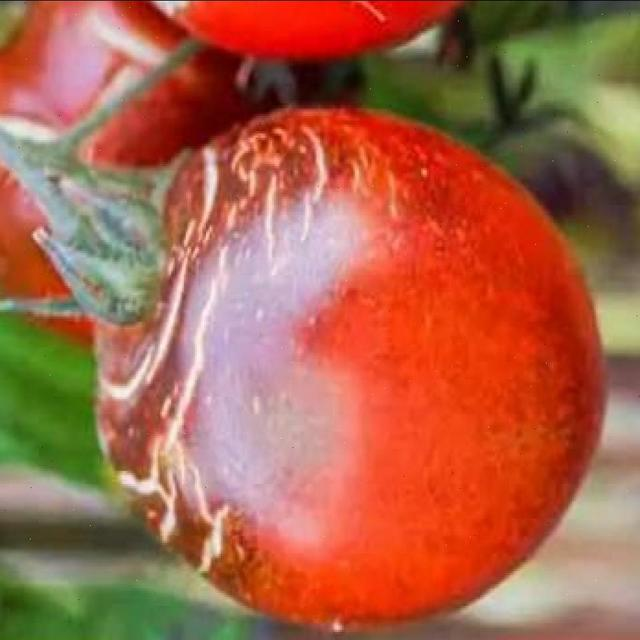Cracking Fruit: (25, 30, 136, 326)
